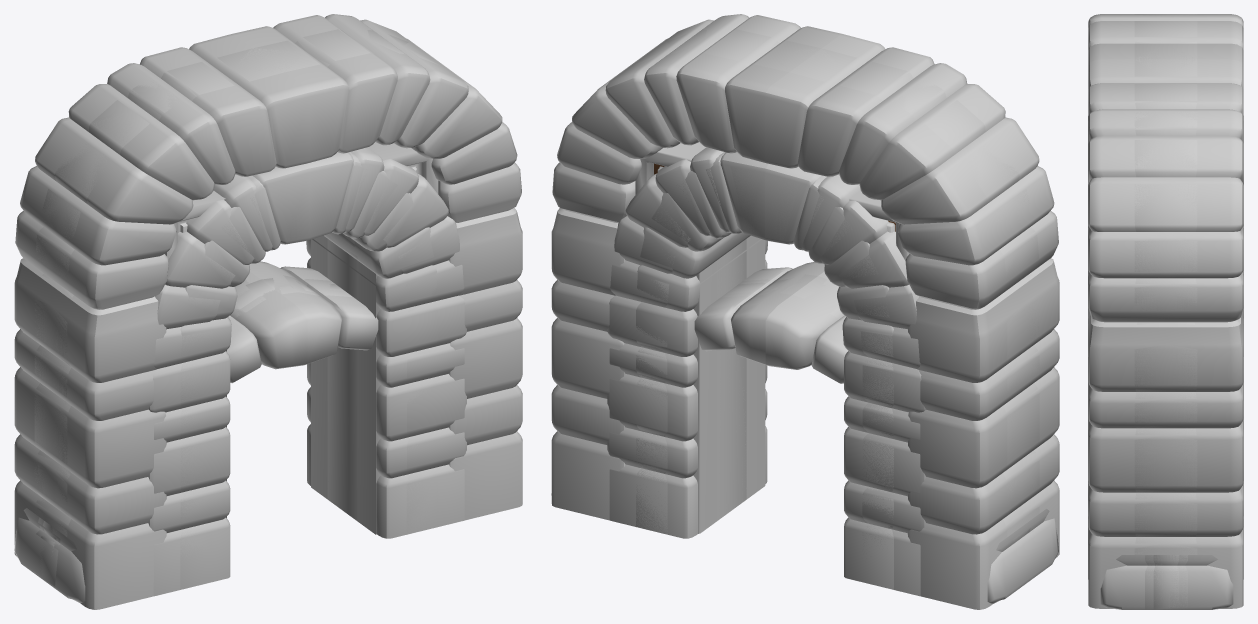
File: Arches.fbx
3 views of the same model, side by side, from view 1: azimuth 30°, elevation 25°; view 2: azimuth 150°, elevation 25°; view 3: azimuth 270°, elevation 25° (orthographic). The views are drawn at different scales.
Visible parts, largest first — view 1: Arch 01c W, Arch 01a W, Arch 01b W, Arch 01c, Arch 02 c, PostNLintel 01 3x3 Thick, PostNLintel 01 3x3, Arch 02 b, Arch 02 a; view 2: Arch 01c W, Arch 01a W, Arch 01b W, Arch 01c, Arch 02 c, PostNLintel 01 3x3 Thick, PostNLintel 01 3x3, Arch 02 b; view 3: Arch 01c W, Arch 01c, Arch 02 c, Arch 02 b, Arch 02 a, Arch 01a W.
Boxes of the visible parts, x1,y1,x2,y2 form: Arch 01c W: (14, 14, 522, 609); Arch 01a W: (148, 147, 466, 596); Arch 01b W: (180, 152, 438, 589); Arch 01c: (34, 29, 439, 536); Arch 02 c: (14, 261, 378, 602); PostNLintel 01 3x3 Thick: (165, 142, 440, 534); PostNLintel 01 3x3: (327, 239, 357, 520); Arch 02 b: (33, 275, 352, 586); Arch 02 a: (39, 278, 343, 582); Arch 01c W: (551, 14, 1059, 609); Arch 01a W: (607, 147, 925, 596); Arch 01b W: (636, 152, 893, 589); Arch 01c: (634, 29, 1039, 536); Arch 02 c: (551, 262, 1058, 603); PostNLintel 01 3x3 Thick: (635, 142, 909, 533); PostNLintel 01 3x3: (717, 239, 746, 520); Arch 02 b: (721, 274, 1039, 589); Arch 01c W: (1088, 14, 1243, 608); Arch 01c: (1134, 14, 1197, 554); Arch 02 c: (1100, 555, 1233, 609); Arch 02 b: (1145, 555, 1187, 609); Arch 02 a: (1153, 555, 1178, 609); Arch 01a W: (1088, 116, 1243, 579).
Size of what is drawn, in the model's own units: 2.99 by 2.98 by 0.9396.
